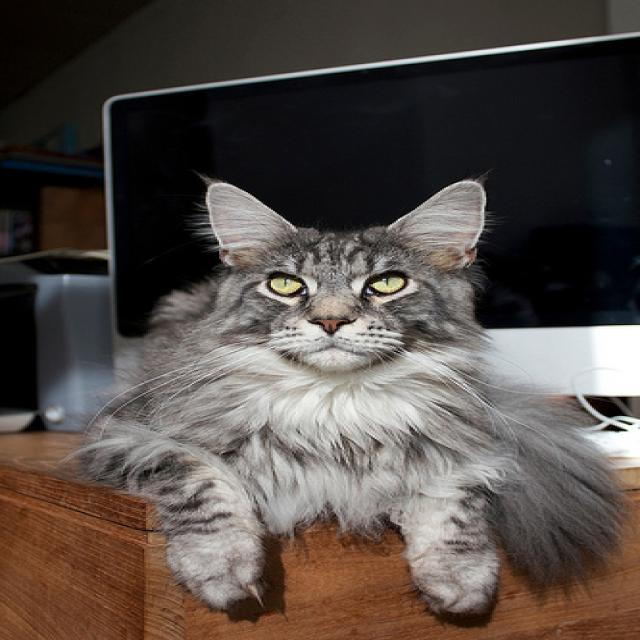Maine_Coon: (189, 178, 500, 379)
